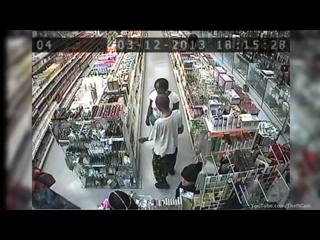Normal: (143, 94, 183, 190), (146, 78, 180, 127)
